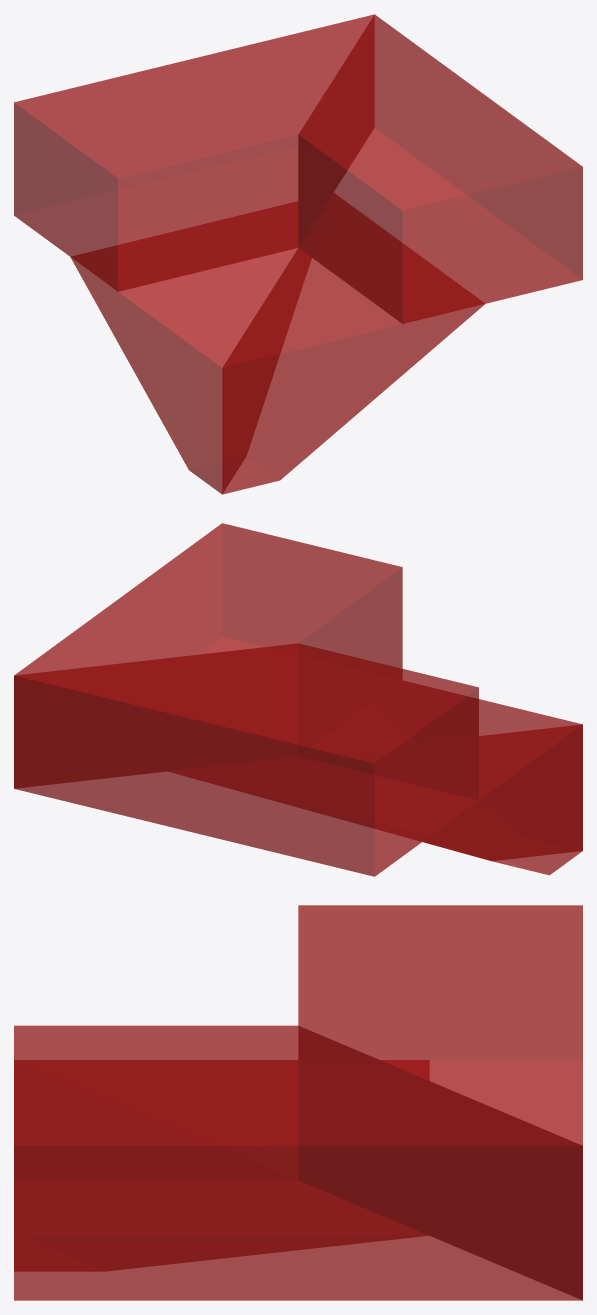
The model's file is SM_Bld_Step_02_Corner_02_Collision.fbx.
3 renders of one model, top to bottom at view 1: azimuth 30°, elevation 25°; view 2: azimuth 150°, elevation 25°; view 3: azimuth 270°, elevation 25°, orthographic. The views are drawn at different scales.
Visible parts, largest first — view 1: SM_Bld_Step_02_Corner_02_Collision; view 2: SM_Bld_Step_02_Corner_02_Collision; view 3: SM_Bld_Step_02_Corner_02_Collision.
Part boxes in pixels (x1,y1,x2,y2): SM_Bld_Step_02_Corner_02_Collision: (14, 14, 582, 494); SM_Bld_Step_02_Corner_02_Collision: (14, 523, 582, 876); SM_Bld_Step_02_Corner_02_Collision: (14, 905, 582, 1300).
Bounding box in the file's own units: 250 × 159 × 250.
